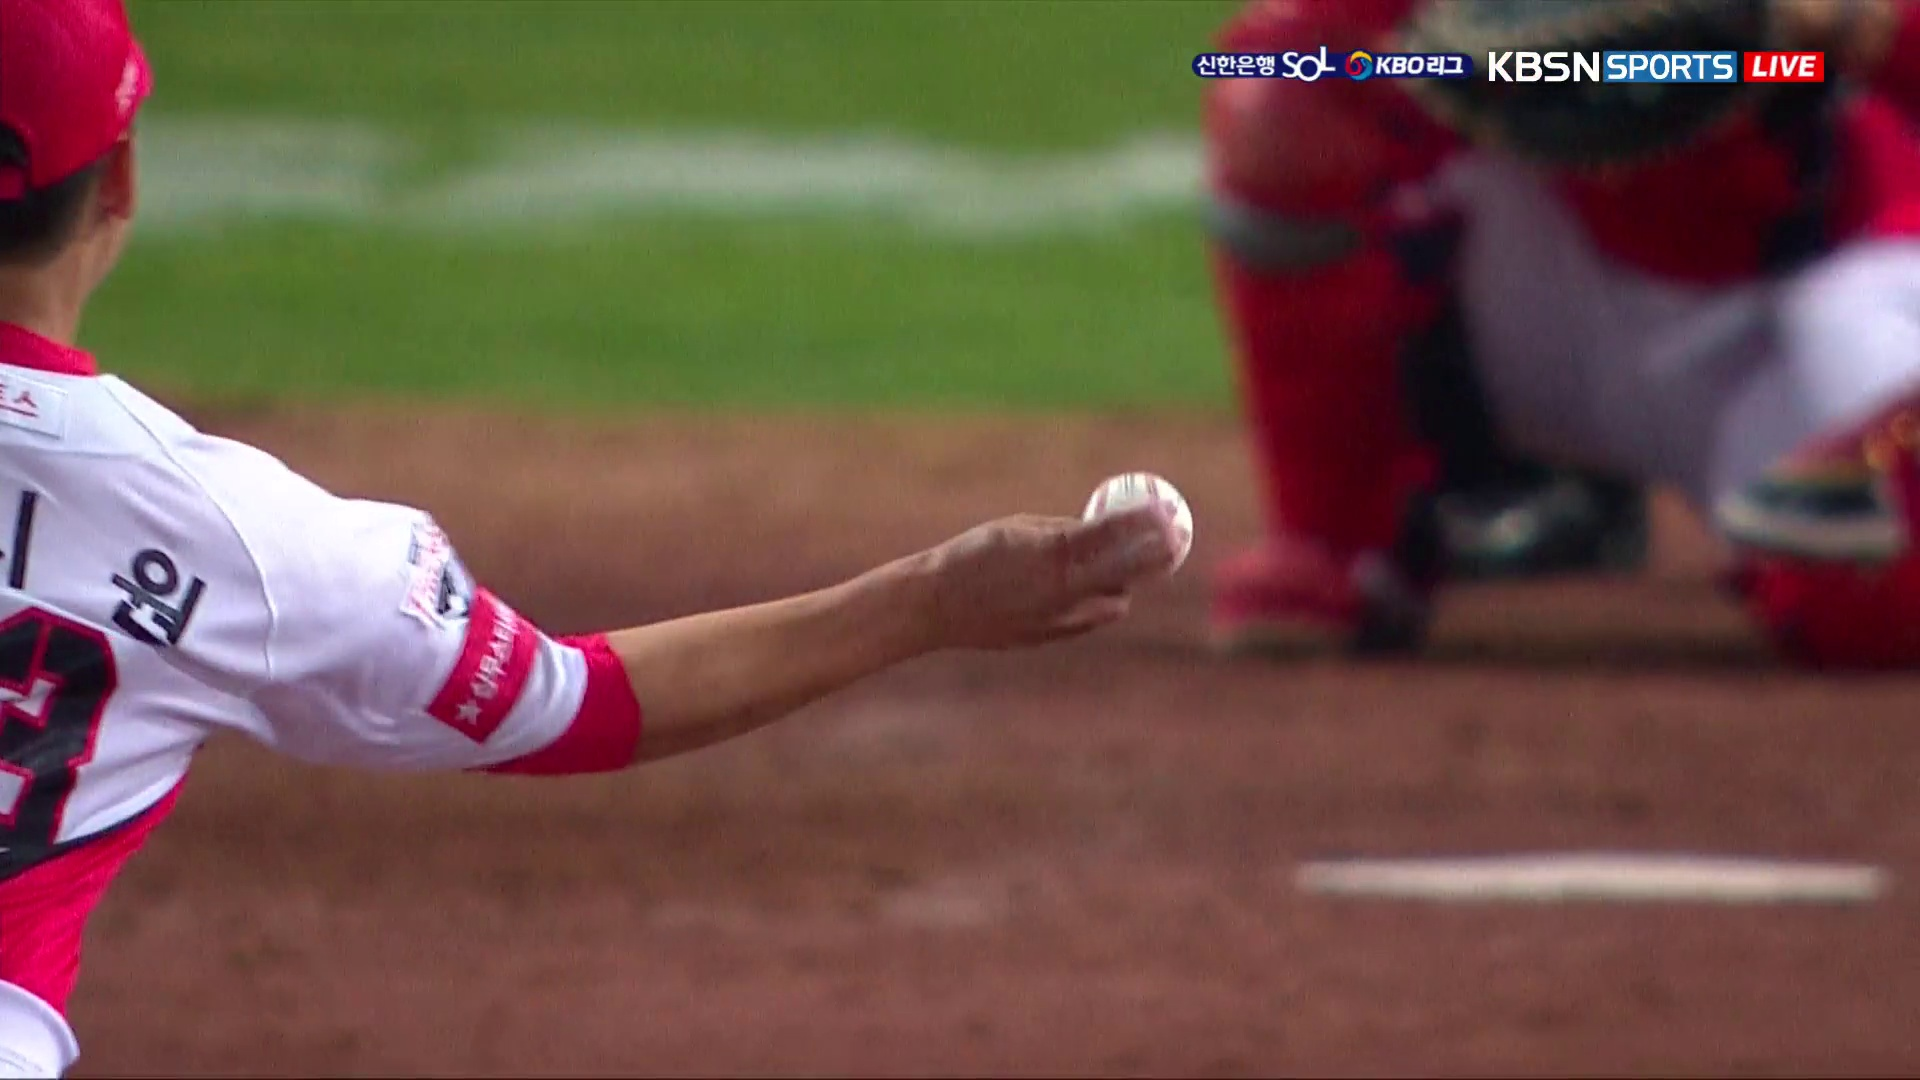zoomin_hand: (524, 464, 1209, 814)
